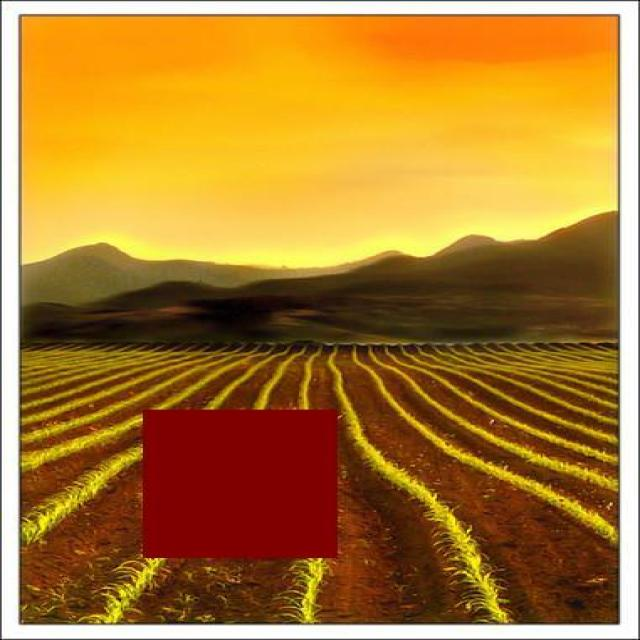RedSquare: (134, 399, 343, 564)
